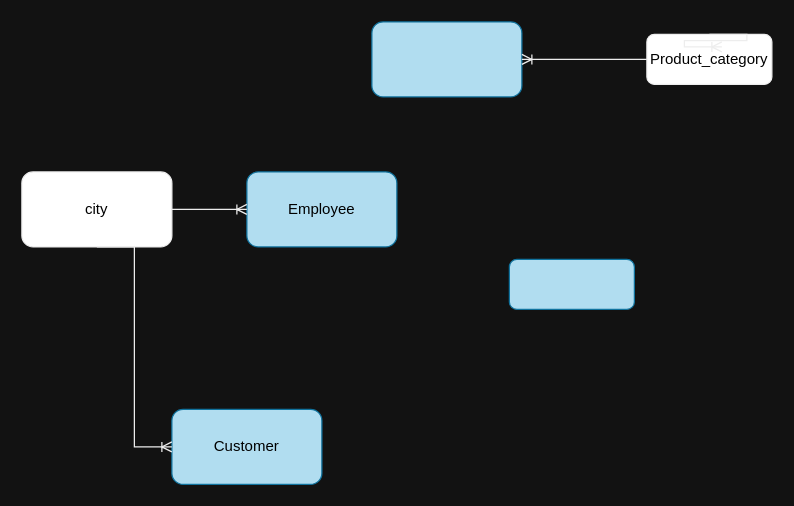
Image size: 794x506. Some labels were removed from this diagram. The shapes that lost their labels are listed below. From the top down, each one's centre as x and y in pixels, then its label:
At (x=446, y=59): "Product".
At (x=571, y=283): "Payments".
